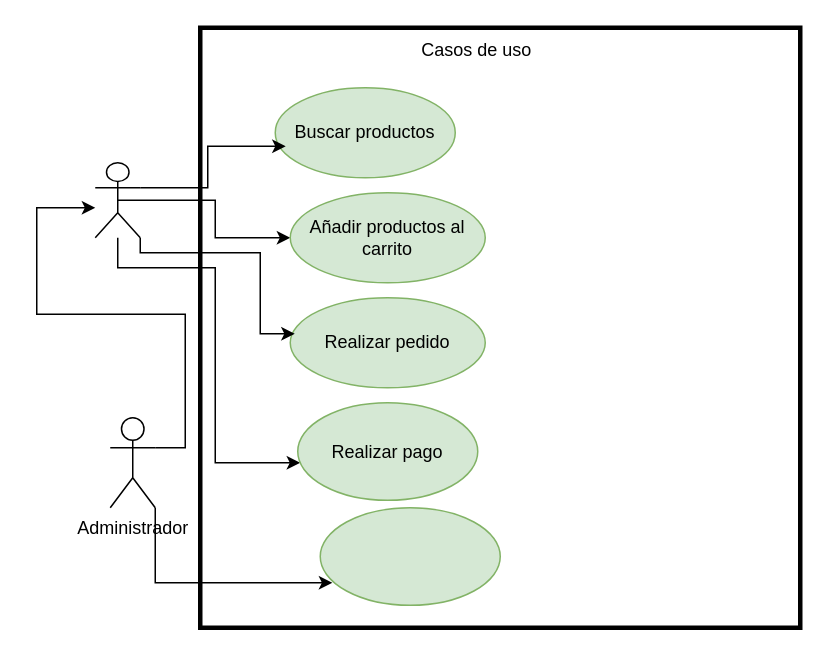
This 828x656 diagram has some shape labels left out. The centre of each missing label's shape, as x and y in pixels:
Cliente: pixel 117 199
Gestionar catálogo de productos: pixel 409 555
